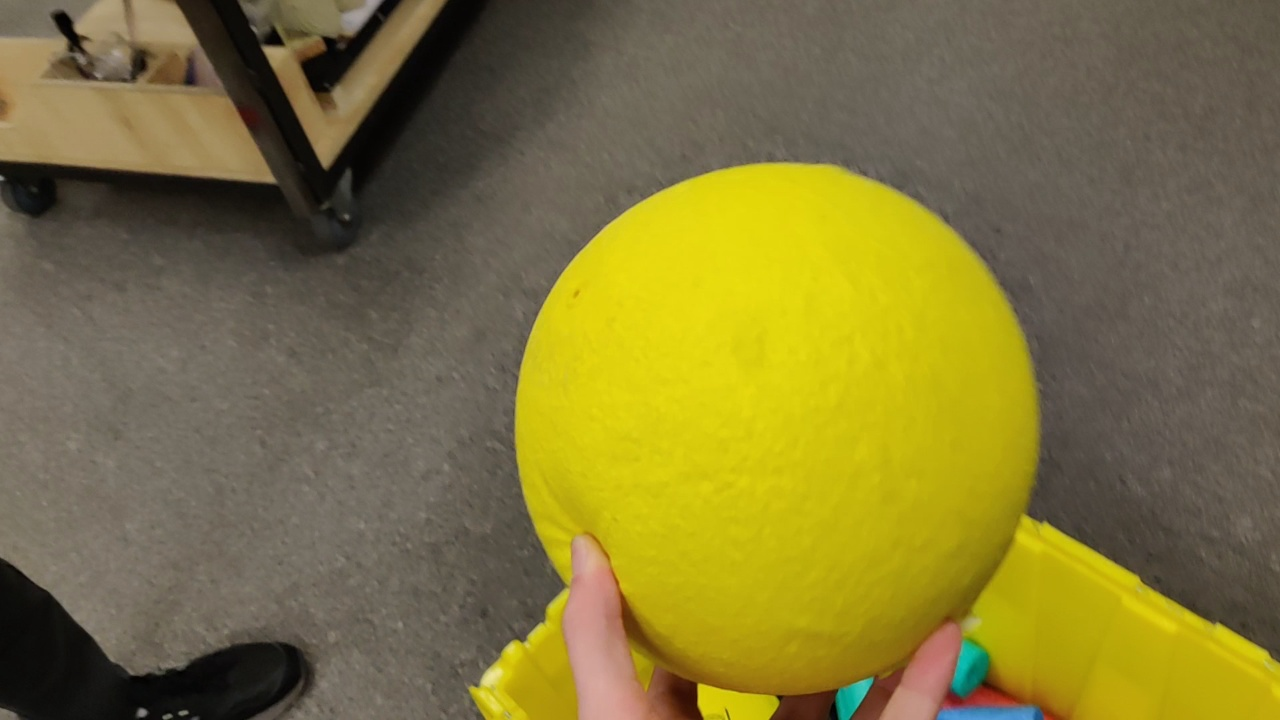Ball: (512, 158, 1049, 699)
